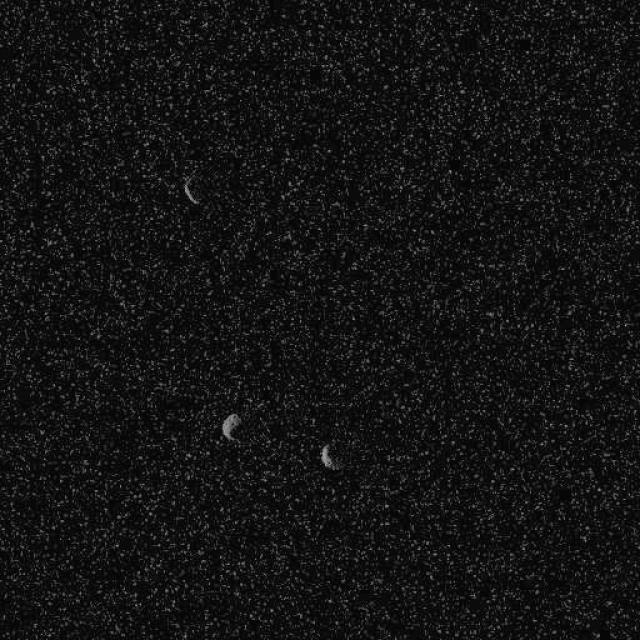D2: (220, 412, 242, 442), (319, 442, 340, 472), (181, 175, 201, 205)
